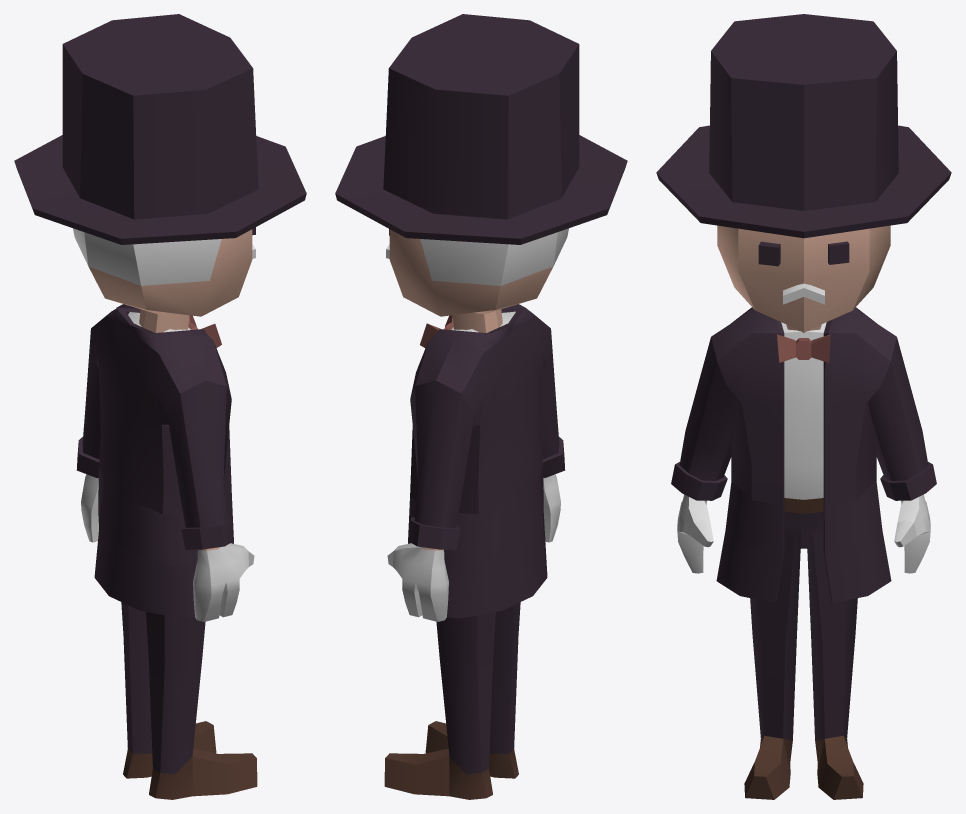
File: RichGuy.fbx
3 views of the same model, side by side, from view 1: azimuth 30°, elevation 25°; view 2: azimuth 150°, elevation 25°; view 3: azimuth 270°, elevation 25° (orthographic).
Visible parts, largest first — view 1: geo_RichGuy; view 2: geo_RichGuy; view 3: geo_RichGuy.
Boxes of the visible parts, x1=… form: geo_RichGuy: x1=14, y1=14, x2=306, y2=799; geo_RichGuy: x1=335, y1=14, x2=627, y2=799; geo_RichGuy: x1=656, y1=14, x2=951, y2=799.
Bounding box in the file's own units: 0.7113 × 1.95 × 0.7305.
